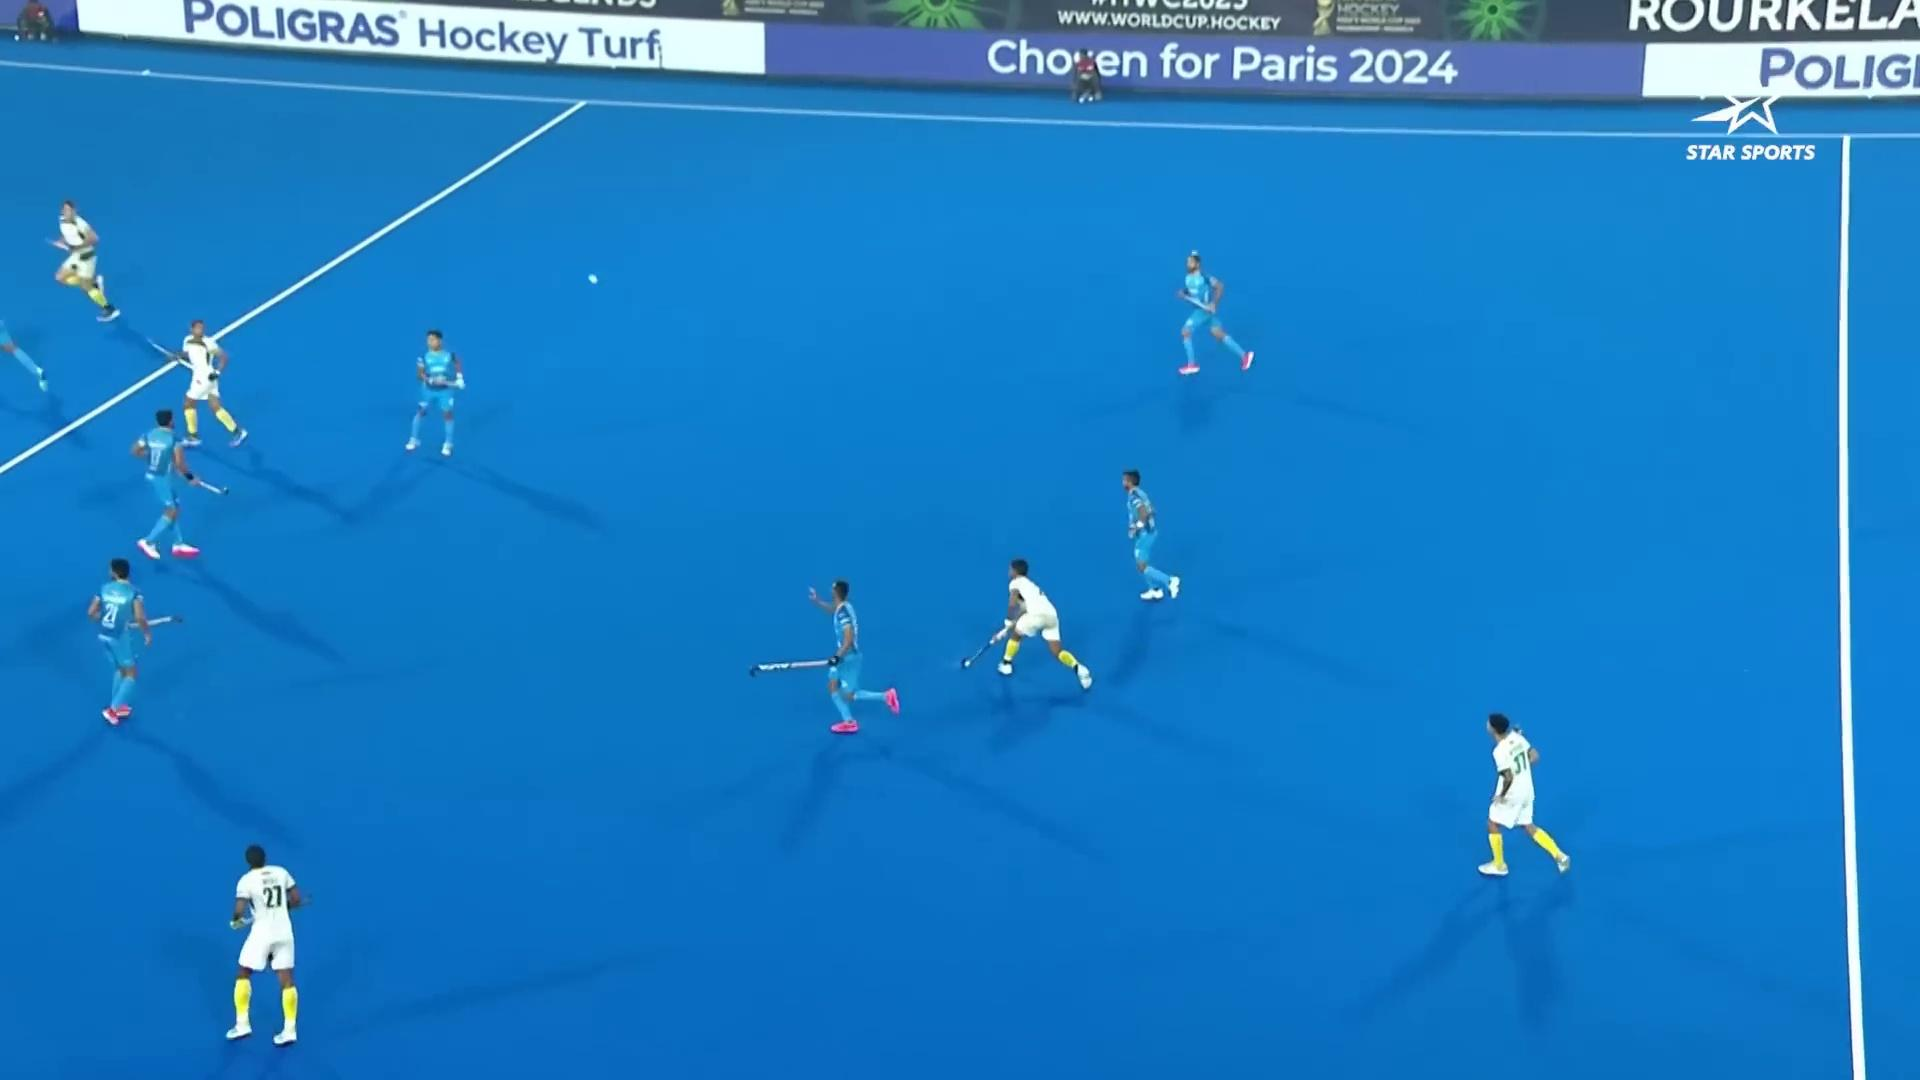ball: (585, 272, 601, 286)
